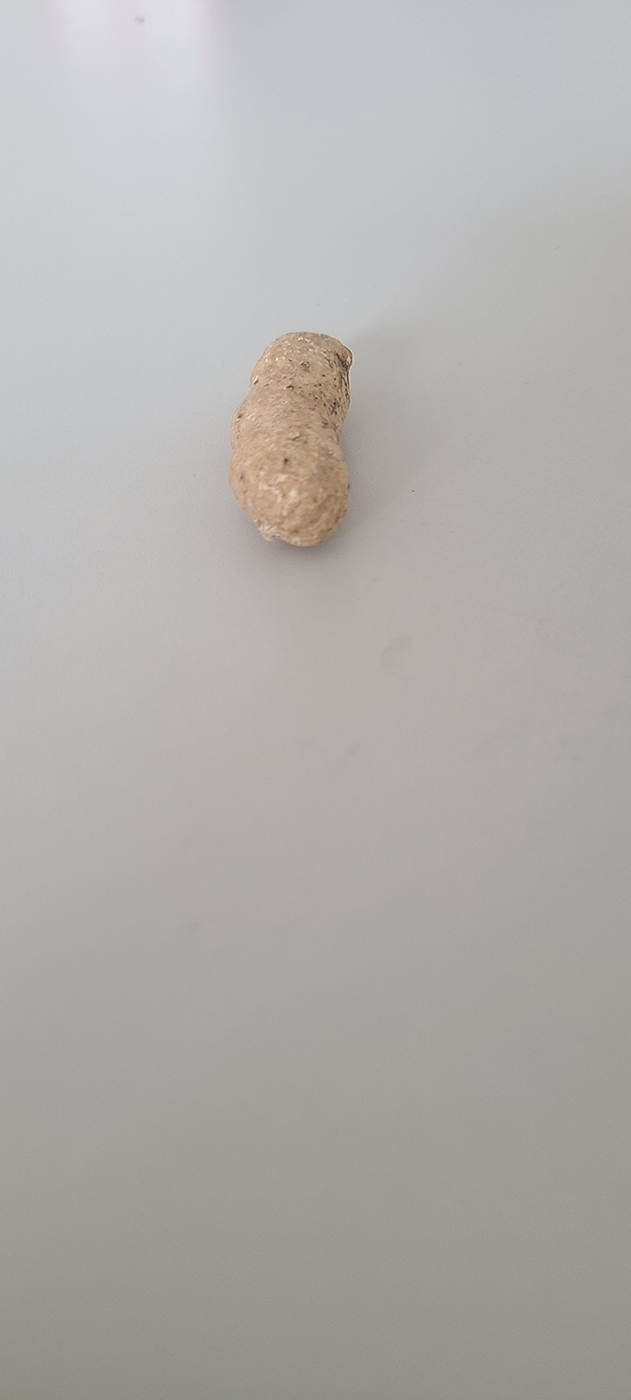h: (227, 331, 354, 549)
